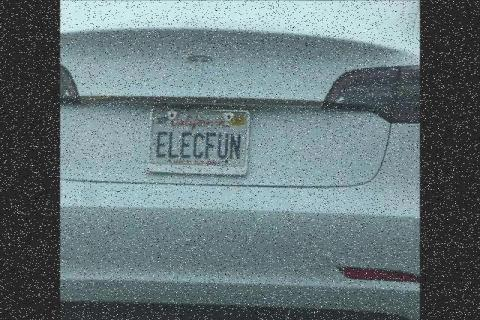LicensePlate: (144, 97, 253, 180)
